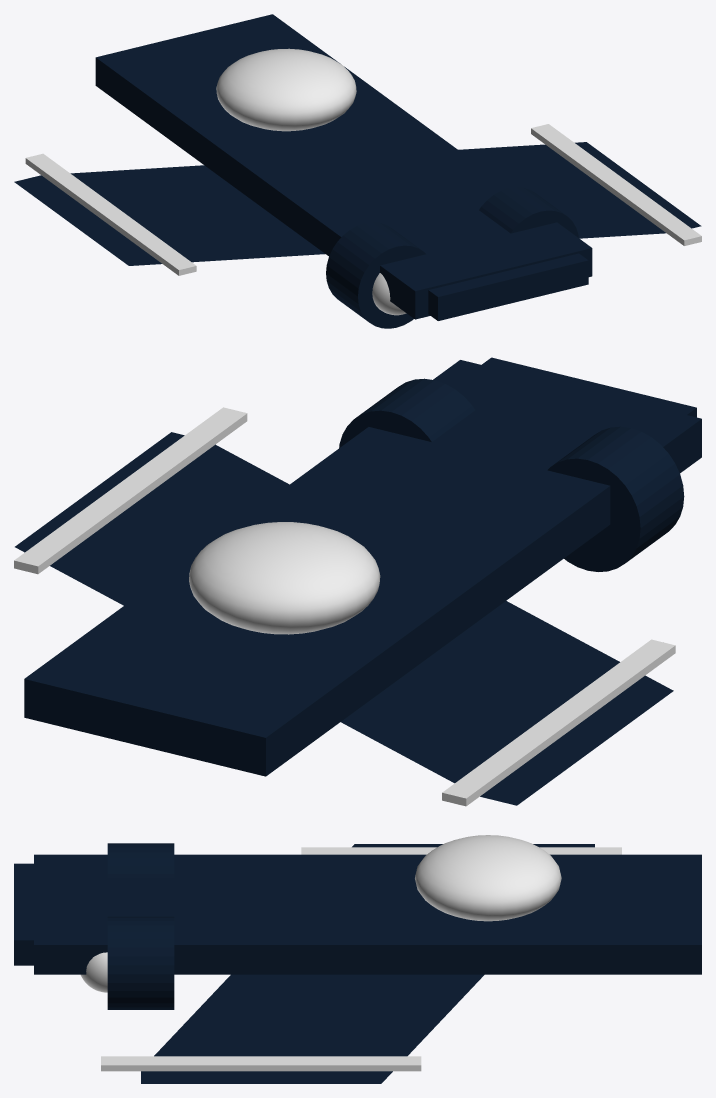
Rendered from NeonSurvivor_Player.fbx.
3 views of the same model, one above another, from view 1: azimuth 30°, elevation 25°; view 2: azimuth 150°, elevation 25°; view 3: azimuth 270°, elevation 25° (orthographic). The views are drawn at different scales.
Visible parts, largest first — view 1: Cube, Plane, Sphere.002, Cylinder, Cube.001, Cube.002, Cylinder.001, Sphere; view 2: Cube, Plane, Sphere.002, Cylinder, Cube.002, Cube.001, Cylinder.001; view 3: Cube, Plane, Sphere.002, Cylinder.001, Cube.002, Cylinder, Cube.001, Sphere.001.
Part boxes in pixels (bbox=[...]): Cube: bbox=[95, 14, 592, 320]; Plane: bbox=[14, 142, 701, 265]; Sphere.002: bbox=[216, 48, 356, 131]; Cylinder: bbox=[326, 222, 425, 328]; Cube.001: bbox=[25, 153, 196, 275]; Cube.002: bbox=[531, 124, 701, 245]; Cylinder.001: bbox=[479, 187, 578, 237]; Sphere: bbox=[372, 273, 406, 315]; Cube: bbox=[24, 357, 701, 776]; Plane: bbox=[15, 432, 673, 805]; Sphere.002: bbox=[189, 522, 380, 634]; Cylinder: bbox=[547, 426, 684, 571]; Cube.002: bbox=[14, 407, 247, 574]; Cube.001: bbox=[442, 639, 675, 806]; Cylinder.001: bbox=[339, 378, 474, 448]; Cube: bbox=[14, 854, 701, 974]; Plane: bbox=[141, 844, 594, 1083]; Sphere.002: bbox=[415, 835, 561, 921]; Cylinder.001: bbox=[107, 916, 174, 1009]; Cube.002: bbox=[101, 1056, 421, 1071]; Cylinder: bbox=[107, 843, 174, 877]; Cube.001: bbox=[301, 847, 621, 854]; Sphere.001: bbox=[80, 952, 107, 992].
Size of the model in its own units: 425 by 99.75 by 515.
